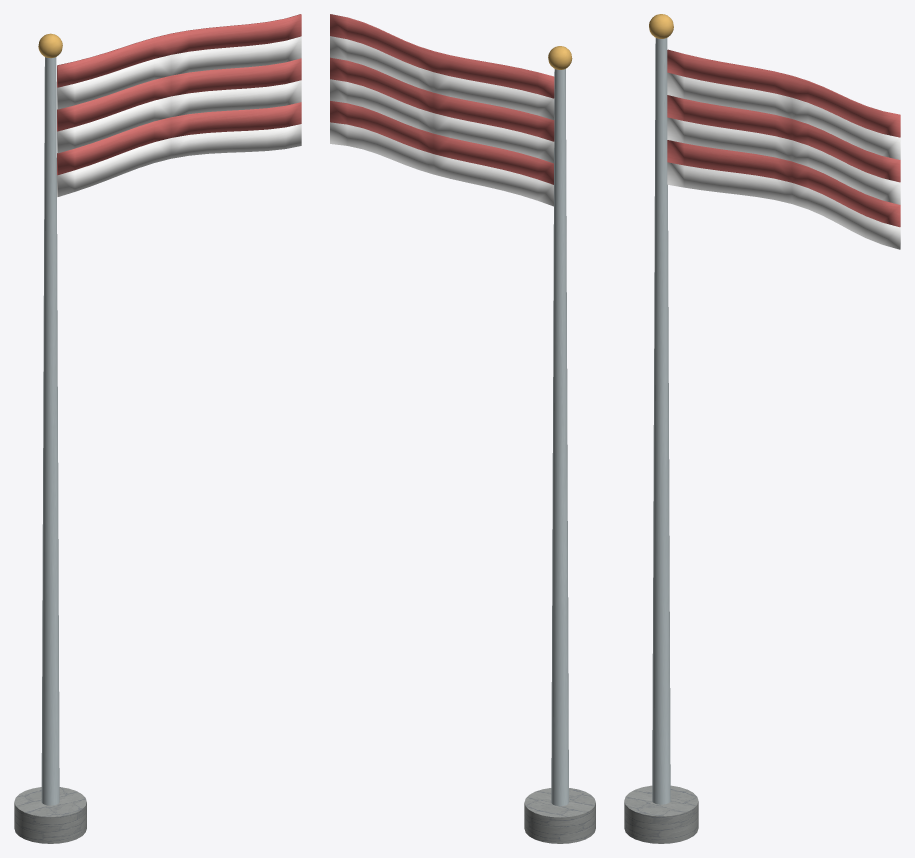
File: flag_pole.glb
The picture shows the model from 3 angles, left to right: view 1: azimuth 30°, elevation 25°; view 2: azimuth 150°, elevation 25°; view 3: azimuth 330°, elevation 25°; orthographic projection. The views are drawn at different scales.
Visible parts, largest first — view 1: flag_pole; view 2: flag_pole; view 3: flag_pole.
Part boxes in pixels (x1,y1,x2,y2): flag_pole: (14, 14, 301, 843); flag_pole: (330, 14, 595, 843); flag_pole: (624, 14, 900, 843).
Size of the model in its own units: 1.92 by 5.31 by 0.44.
2 materials, 2 textured.
